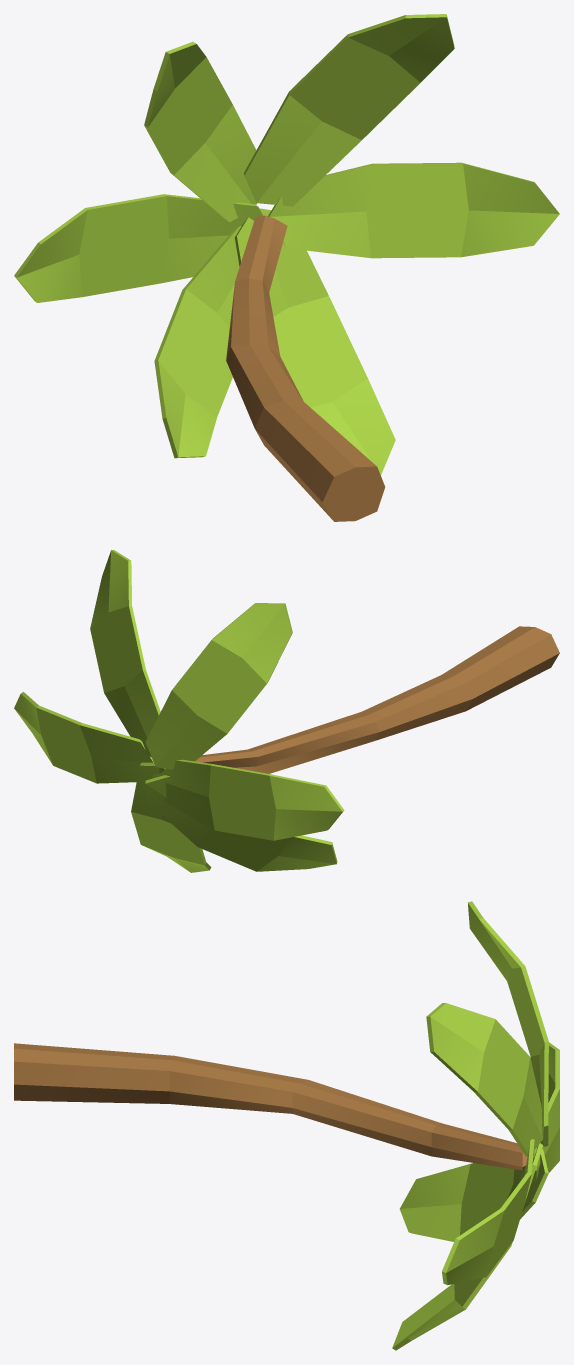
Rendered from palm1.dae.
The picture shows the model from 3 angles, top to bottom: view 1: azimuth 30°, elevation 25°; view 2: azimuth 150°, elevation 25°; view 3: azimuth 270°, elevation 25°; orthographic projection. The views are drawn at different scales.
Parts seen in each view (by area): view 1: Green, Brown; view 2: Green, Brown; view 3: Green, Brown.
Part boxes in pixels (x1,y1,x2,y2): Green: (14,14,559,474); Brown: (226,215,385,521); Green: (14,550,344,872); Brown: (195,626,559,773); Green: (392,901,559,1350); Brown: (14,1043,533,1170).
Size of the model in its own units: 0.6814 by 0.751 by 0.5729.
